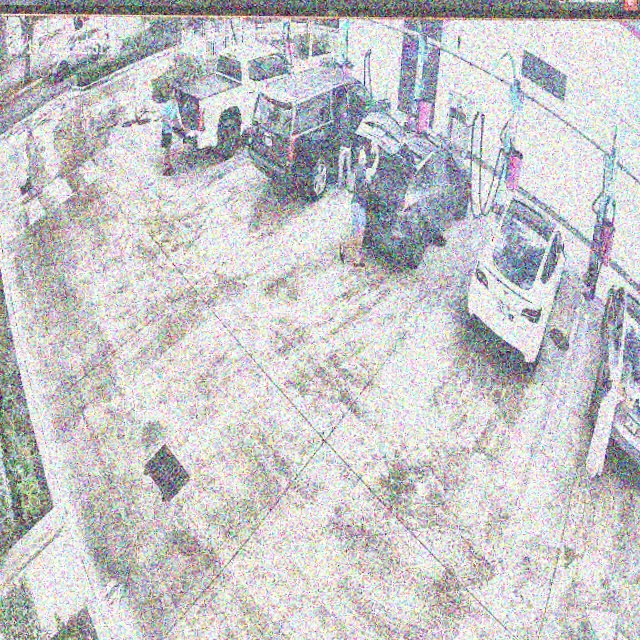Car: (248, 64, 392, 193), (466, 195, 570, 373), (354, 108, 473, 259), (171, 43, 314, 167)
